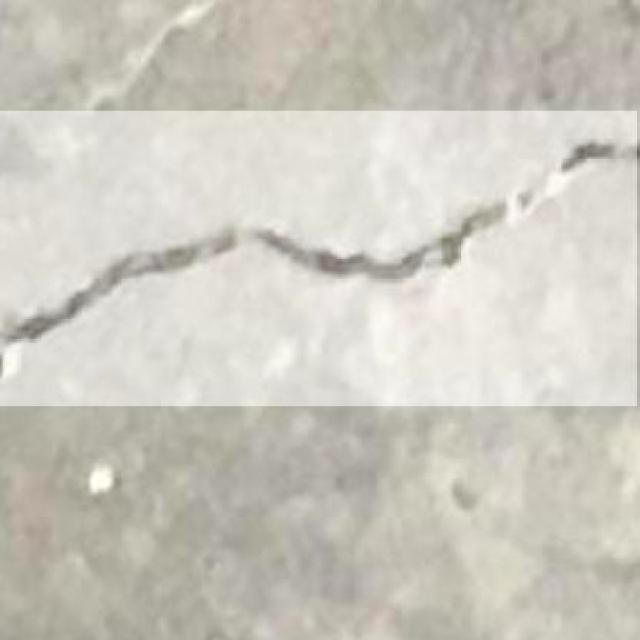SurfaceCrack: (0, 116, 636, 400)
